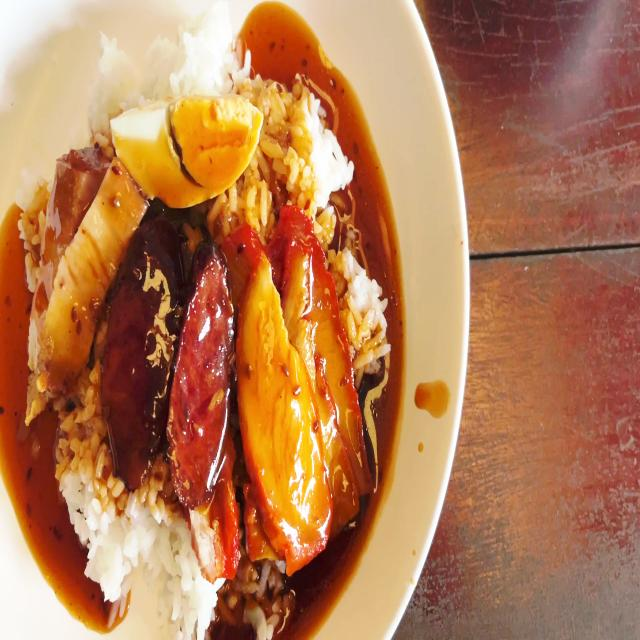boiled_egg: (120, 99, 259, 194)
chainese_sausage: (113, 221, 233, 487)
crispy_pork: (29, 147, 118, 409)
red_pork: (232, 213, 364, 542), (191, 495, 243, 580)
red_pork_and_crispy_pork: (22, 0, 391, 640)
rice: (260, 76, 351, 208), (110, 487, 198, 618), (91, 0, 242, 76), (67, 391, 120, 588), (341, 265, 386, 362)
